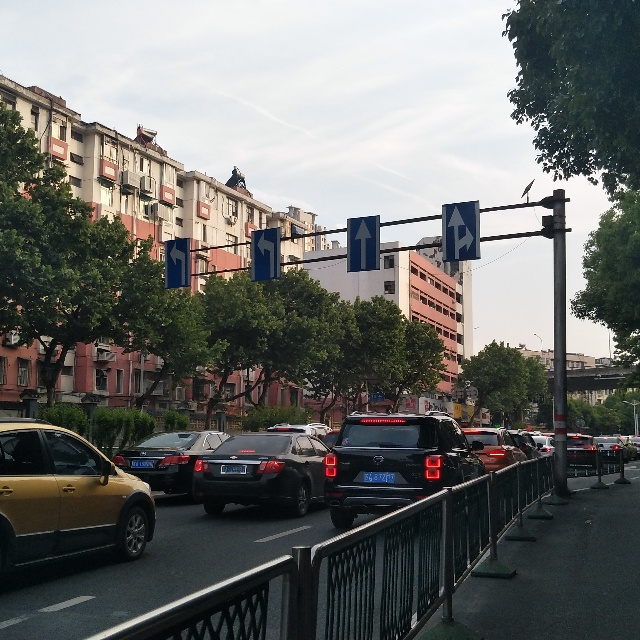left: (157, 237, 194, 291), (249, 228, 284, 284)
straight: (346, 216, 382, 273)
